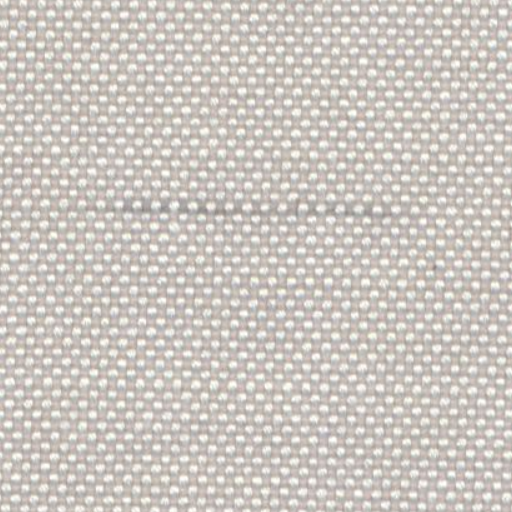WuZi: (85, 192, 392, 222)
